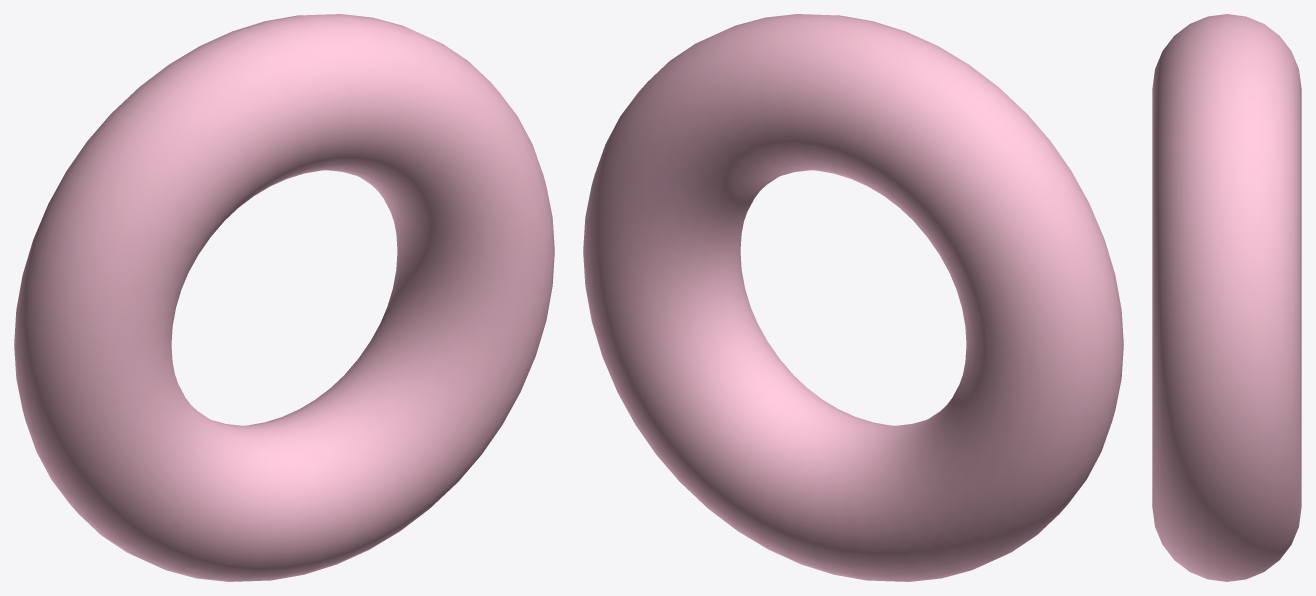
Rendered from torus_ring.glb.
3 views of the same model, side by side, from view 1: azimuth 30°, elevation 25°; view 2: azimuth 150°, elevation 25°; view 3: azimuth 270°, elevation 25° (orthographic). The views are drawn at different scales.
Parts seen in each view (by area): view 1: Torus; view 2: Torus; view 3: Torus.
Part boxes in pixels (x1=…): Torus: x1=14, y1=14, x2=554, y2=581; Torus: x1=583, y1=14, x2=1123, y2=581; Torus: x1=1152, y1=14, x2=1301, y2=581.
Size of the model in its own units: 2.44 by 2.44 by 0.64.
